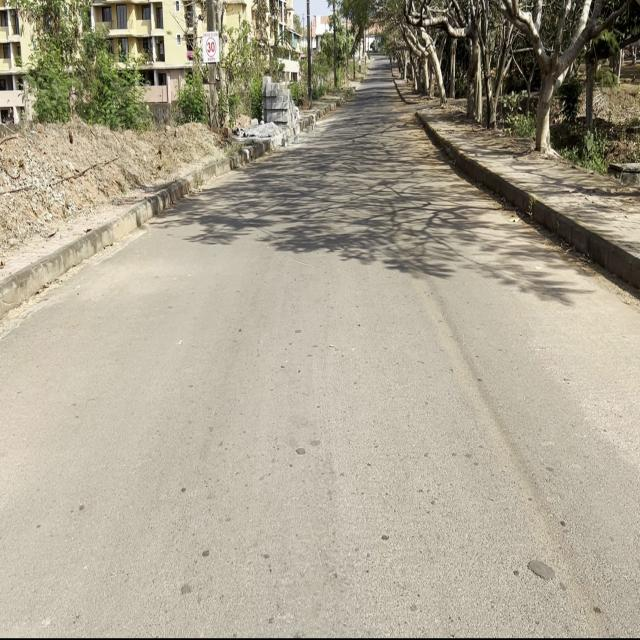Road: (0, 60, 640, 639)
